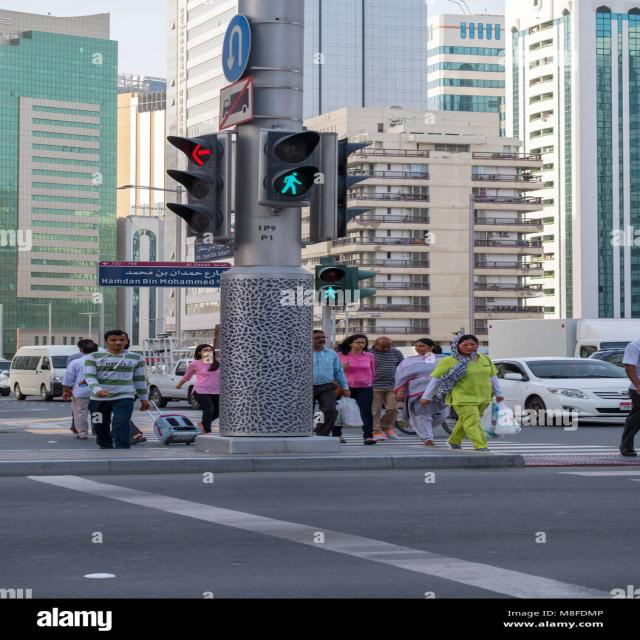MiniBus taxi: (7, 344, 69, 404)
Passenger Car: (513, 357, 628, 428)
Pedestrians: (426, 334, 512, 453), (84, 328, 152, 451), (170, 340, 218, 435), (338, 333, 375, 451), (311, 330, 347, 444), (365, 336, 398, 448), (404, 339, 436, 448)
